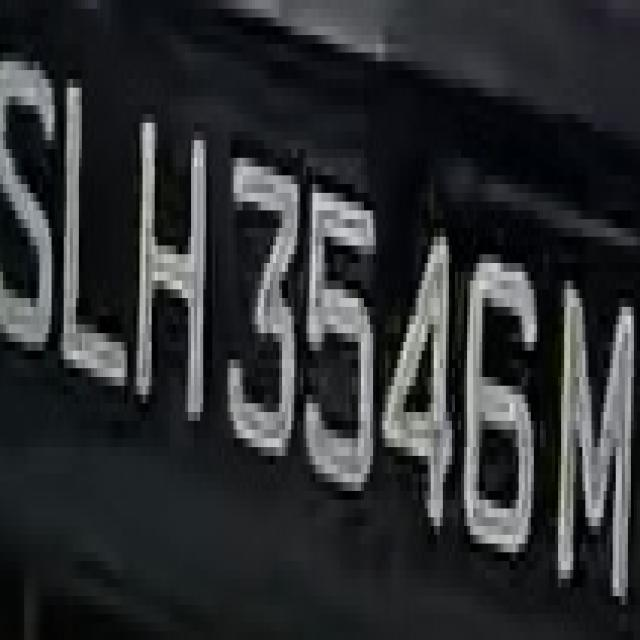3: (222, 105, 294, 482)
4: (379, 210, 458, 552)
5: (297, 149, 385, 509)
6: (467, 184, 540, 579)
H: (130, 96, 218, 421)
L: (60, 62, 136, 430)
M: (549, 237, 628, 631)
S: (12, 18, 61, 394)
